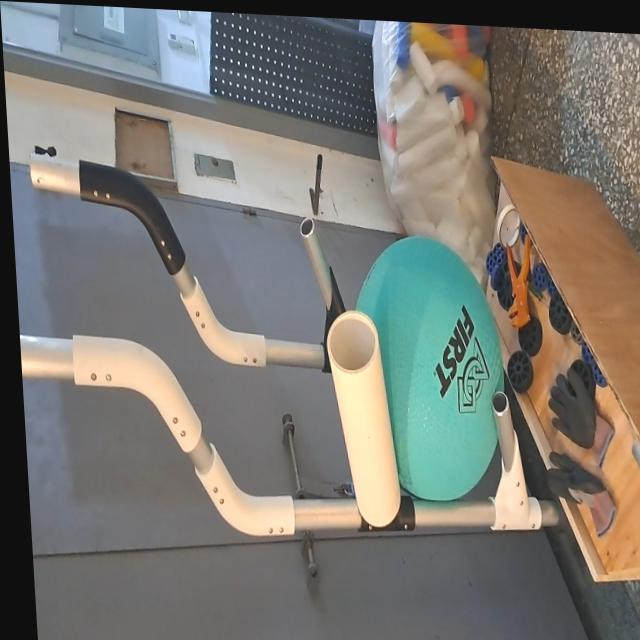ALGAE: (345, 225, 511, 510)
CORAL: (321, 299, 405, 531)
